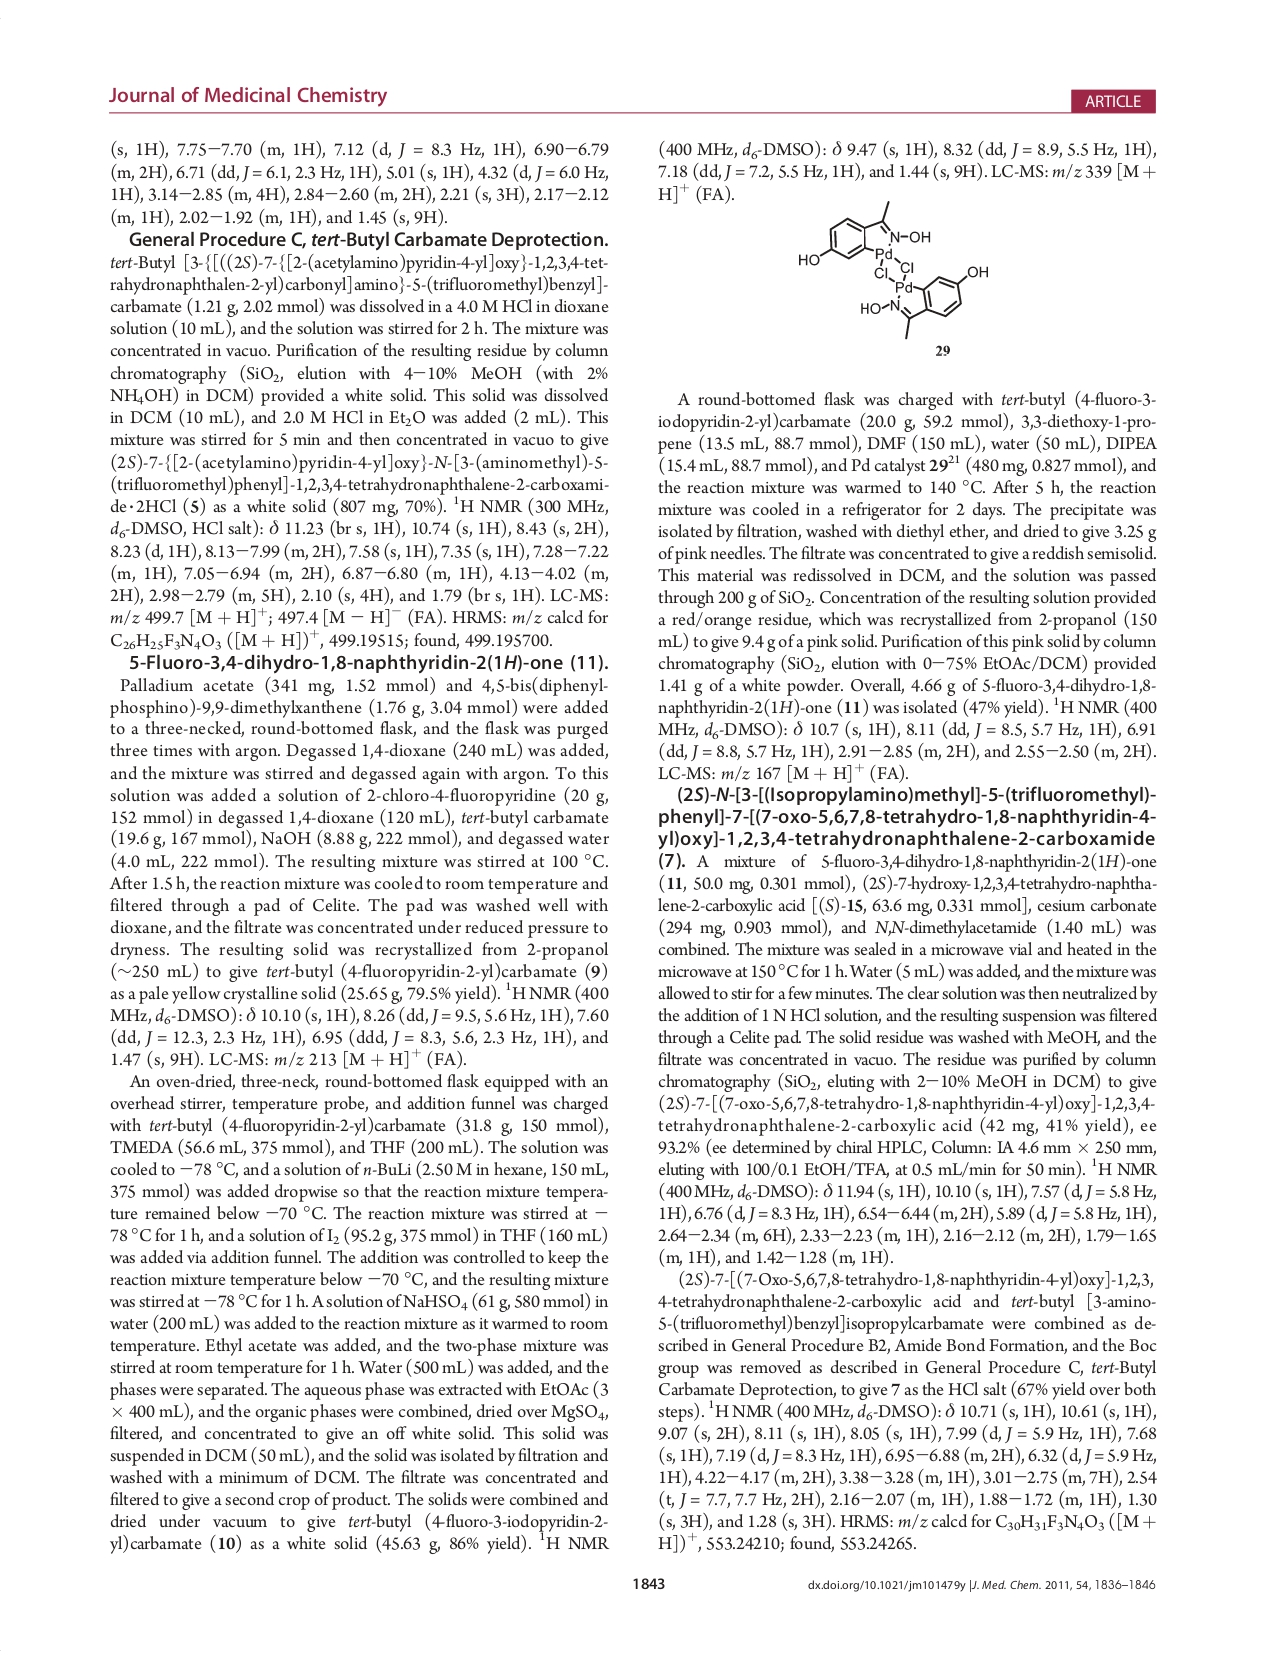exist_molecular: (797, 199, 995, 343)
